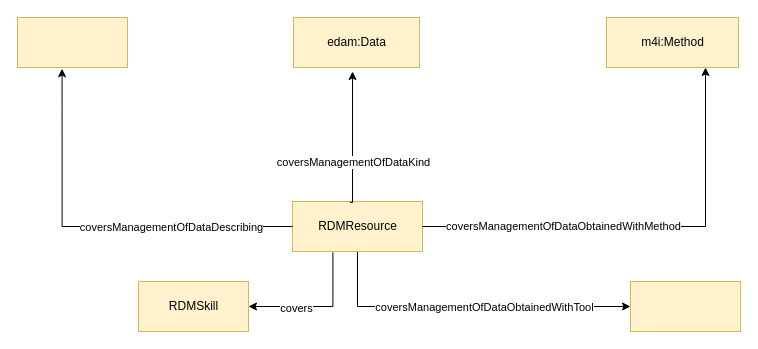
Image size: 758x349. Some labels were removed from this diagram. The shapes that lost their labels are listed below. From the top down, each one's box as (x1, y1, x2, y2) in pixels, then its label:
(16, 16, 128, 68): sio:Object
(630, 280, 740, 332): m4i:Tool
